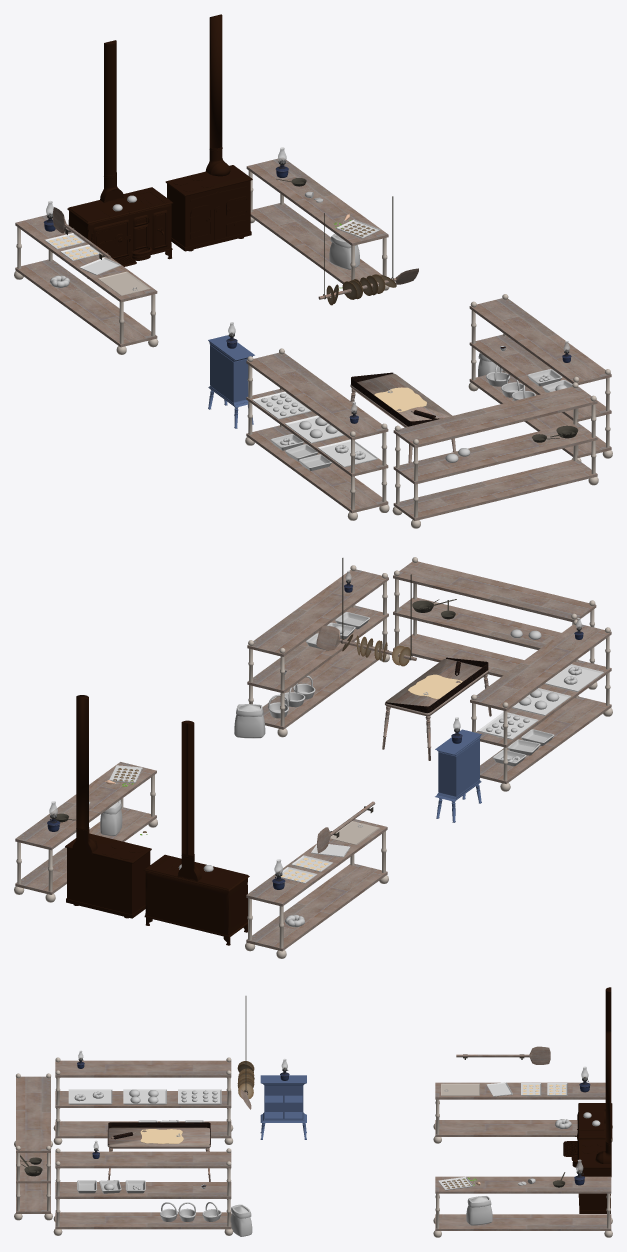
Rendered from FMC Kitchen.fbx.
3 views of the same model, one above another, from view 1: azimuth 30°, elevation 25°; view 2: azimuth 150°, elevation 25°; view 3: azimuth 270°, elevation 25° (orthographic). The views are drawn at different scales.
Visible parts, largest first — view 1: Storage Shelves, Big Stove, Cooling Rack Shelves.002, Cooling Rack Shelves.001, Cute Stove, Scullery Cabinet, Baking Table, Baking Trays, Cute Oven Pipe LP, Crisp Bread on Paddle, Basket_Tray.001, Rolled Dough (+4 smaller); view 2: Storage Shelves, Big Stove, Cooling Rack Shelves.001, Cooling Rack Shelves.002, Cute Stove, Baking Table, Scullery Cabinet, Baking Trays, Cute Oven Pipe LP, Paddle (Hanging), Flour_Open, Basket_Tray.001 (+6 smaller); view 3: Storage Shelves, Cooling Rack Shelves.002, Cooling Rack Shelves.001, Baking Table, Scullery Cabinet, Cute Stove, Big Stove, Baking Trays, Cute Oven Pipe LP, Basket_Tray, Basket.003, Flour_Open.001 (+5 smaller).
Part boxes in pixels (left/top/right/bottom): Storage Shelves: left=245, top=294, right=612, bottom=528; Big Stove: left=67, top=40, right=172, bottom=278; Cooling Rack Shelves.002: left=246, top=158, right=389, bottom=290; Cooling Rack Shelves.001: left=14, top=215, right=158, bottom=354; Cute Stove: left=165, top=146, right=252, bottom=251; Scullery Cabinet: left=208, top=335, right=254, bottom=428; Baking Table: left=350, top=372, right=456, bottom=462; Baking Trays: left=252, top=391, right=378, bottom=467; Cute Oven Pipe LP: left=209, top=14, right=222, bottom=148; Crisp Bread on Paddle: left=326, top=274, right=396, bottom=305; Basket_Tray.001: left=270, top=433, right=331, bottom=470; Rolled Dough: left=374, top=387, right=426, bottom=412; Storage Shelves: left=247, top=557, right=612, bottom=791; Big Stove: left=144, top=720, right=249, bottom=945; Cooling Rack Shelves.001: left=245, top=819, right=388, bottom=958; Cooling Rack Shelves.002: left=14, top=762, right=157, bottom=902; Cute Stove: left=65, top=827, right=151, bottom=918; Baking Table: left=382, top=657, right=491, bottom=760; Scullery Cabinet: left=435, top=729, right=481, bottom=822; Baking Trays: left=478, top=664, right=603, bottom=739; Cute Oven Pipe LP: left=76, top=695, right=88, bottom=830; Paddle (Hanging): left=316, top=558, right=416, bottom=660; Flour_Open: left=234, top=704, right=265, bottom=738; Basket_Tray.001: left=492, top=729, right=554, bottom=766; Storage Shelves: left=14, top=1057, right=233, bottom=1235; Cooling Rack Shelves.002: left=433, top=1176, right=612, bottom=1237; Cooling Rack Shelves.001: left=433, top=1082, right=612, bottom=1143; Baking Table: left=107, top=1122, right=210, bottom=1181; Scullery Cabinet: left=260, top=1075, right=306, bottom=1139; Cute Stove: left=578, top=1139, right=611, bottom=1213; Big Stove: left=563, top=987, right=612, bottom=1176; Baking Trays: left=68, top=1089, right=221, bottom=1104; Cute Oven Pipe LP: left=605, top=1030, right=611, bottom=1143; Basket_Tray: left=77, top=1180, right=145, bottom=1193; Basket.003: left=160, top=1202, right=221, bottom=1221; Flour_Open.001: left=466, top=1196, right=492, bottom=1225.
Size of the model in its own units: 561 by 420 by 1283.
